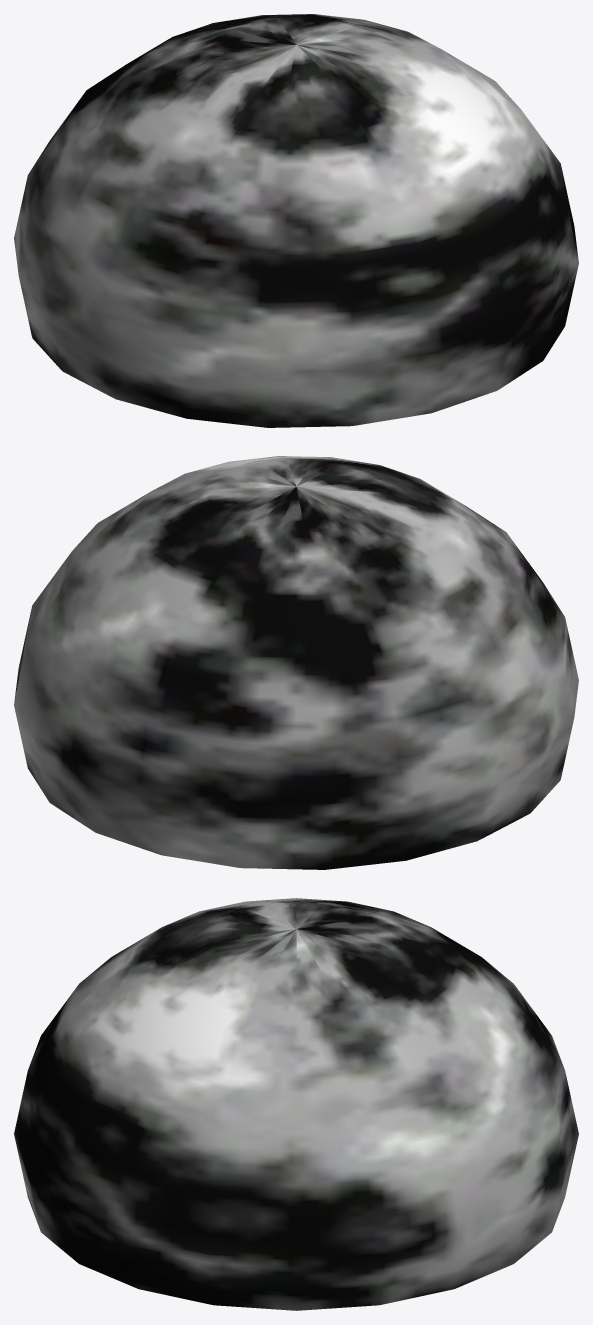
File: Effect_1122bigskill_01.fbx
3 views of the same model, one above another, from view 1: azimuth 30°, elevation 25°; view 2: azimuth 150°, elevation 25°; view 3: azimuth 270°, elevation 25° (orthographic).
Parts seen in each view (by area): view 1: Effect_1122bigskill_01; view 2: Effect_1122bigskill_01; view 3: Effect_1122bigskill_01.
Boxes of the visible parts, left/top/right/bottom form: Effect_1122bigskill_01: left=14, top=14, right=578, bottom=427; Effect_1122bigskill_01: left=14, top=456, right=578, bottom=869; Effect_1122bigskill_01: left=14, top=898, right=578, bottom=1310.
Size of the model in its own units: 8 by 4.19 by 8.
Materials: 1 (1 with a texture image).
